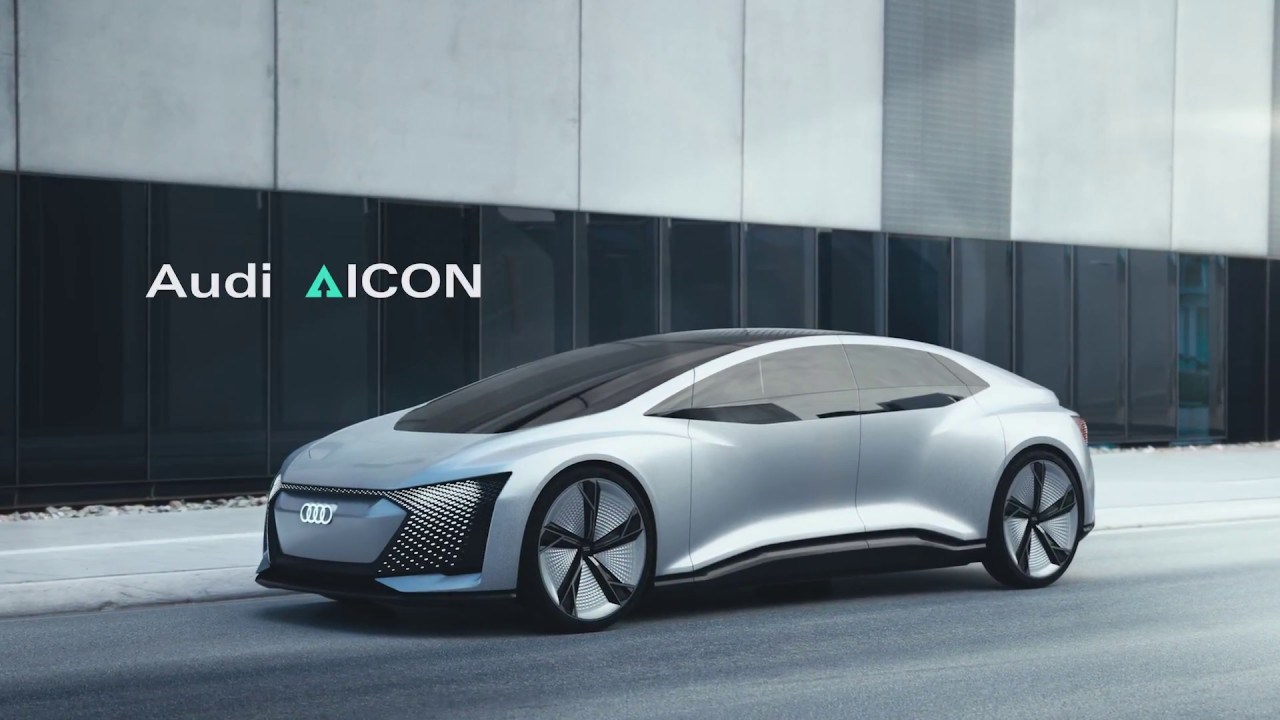audi: (256, 329, 1099, 629)
